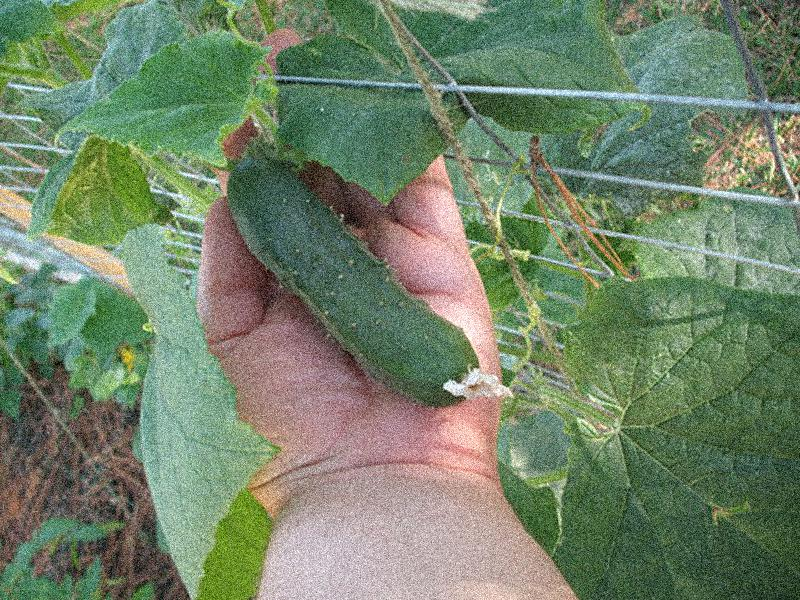Cucumber: (229, 155, 515, 406)
